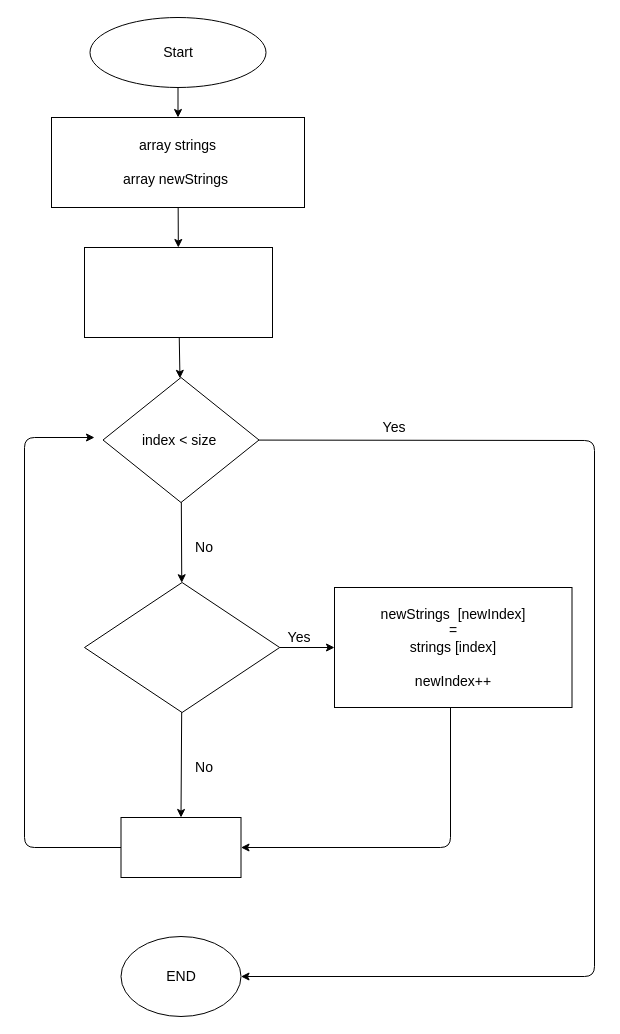
Image size: 620x1034. Some labels were removed from this diagram. Here are the shapes that lost their labels. From the top down, the box of each, then its label:
(84, 246, 272, 338): index = 0 newIndex = 0 size = strings length
(84, 582, 280, 712): strings[index] Length <= 3 ?
(120, 816, 241, 878): index++
